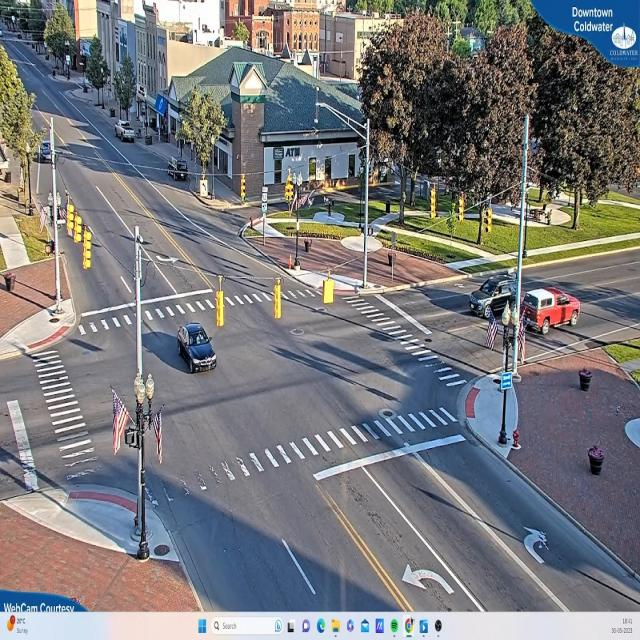car: (522, 290, 581, 332), (468, 272, 517, 319), (178, 322, 218, 372), (117, 122, 137, 144)
